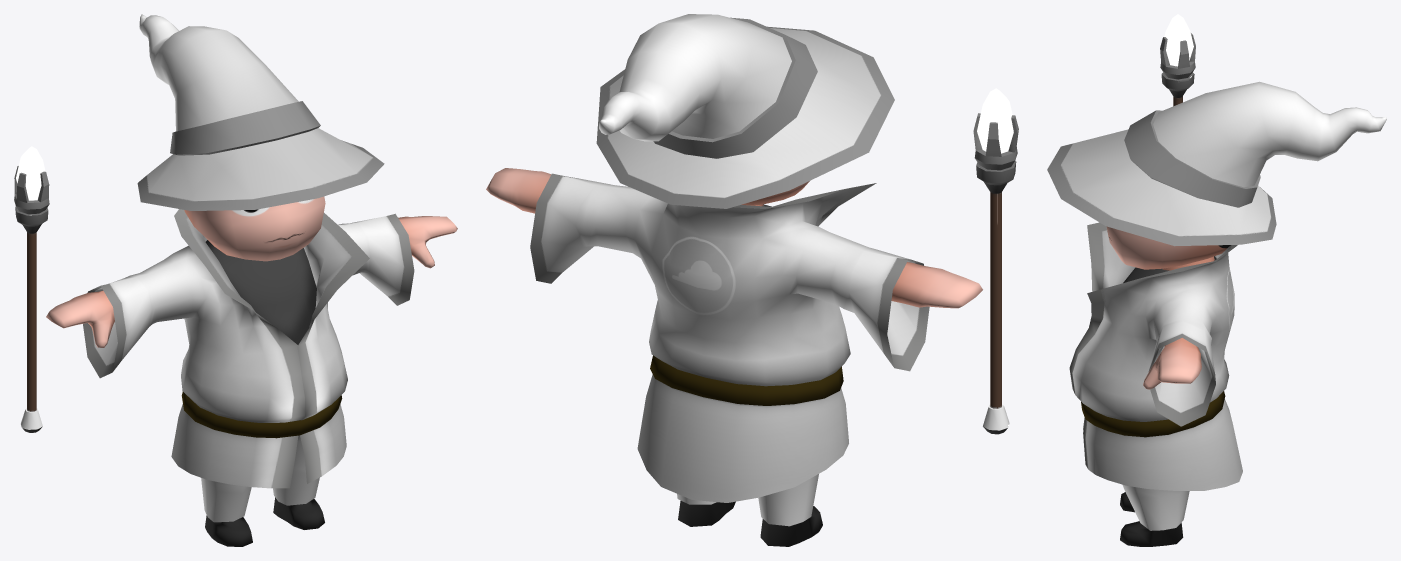
File: Wind Mage.fbx
The picture shows the model from 3 angles, left to right: view 1: azimuth 30°, elevation 25°; view 2: azimuth 150°, elevation 25°; view 3: azimuth 270°, elevation 25°; orthographic projection. The views are drawn at different scales.
Parts seen in each view (by area): view 1: Wind Mage, Wind Hat, Fire Stick; view 2: Wind Mage, Wind Hat, Fire Stick; view 3: Wind Mage, Wind Hat, Fire Stick.
Boxes of the visible parts, box(x1,y1,x2,y2) form: Wind Mage: box(46, 196, 457, 546); Wind Hat: box(137, 14, 384, 210); Fire Stick: box(14, 146, 49, 432); Wind Mage: box(486, 168, 982, 546); Wind Hat: box(596, 14, 894, 208); Fire Stick: box(973, 88, 1018, 434); Wind Mage: box(1069, 222, 1242, 546); Wind Hat: box(1047, 81, 1386, 246); Fire Stick: box(1160, 14, 1195, 106).
Bounding box in the file's own units: 508 × 507 × 358.
3 materials, 3 textured.
